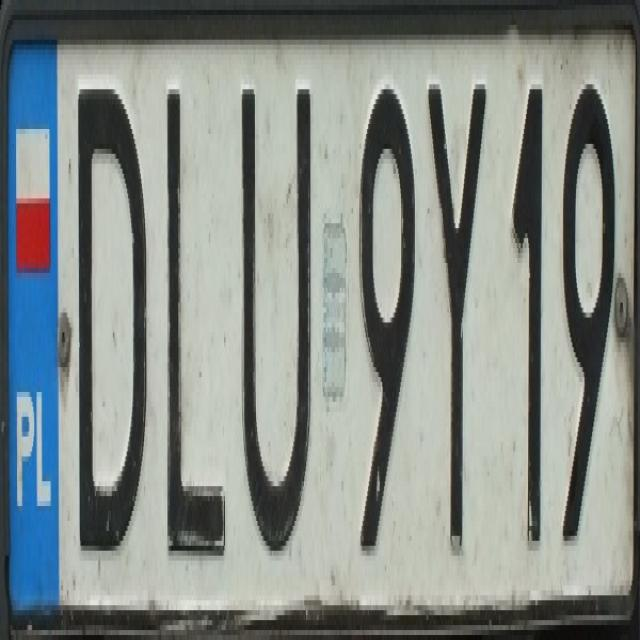pl_license_plate: (6, 35, 632, 600)
